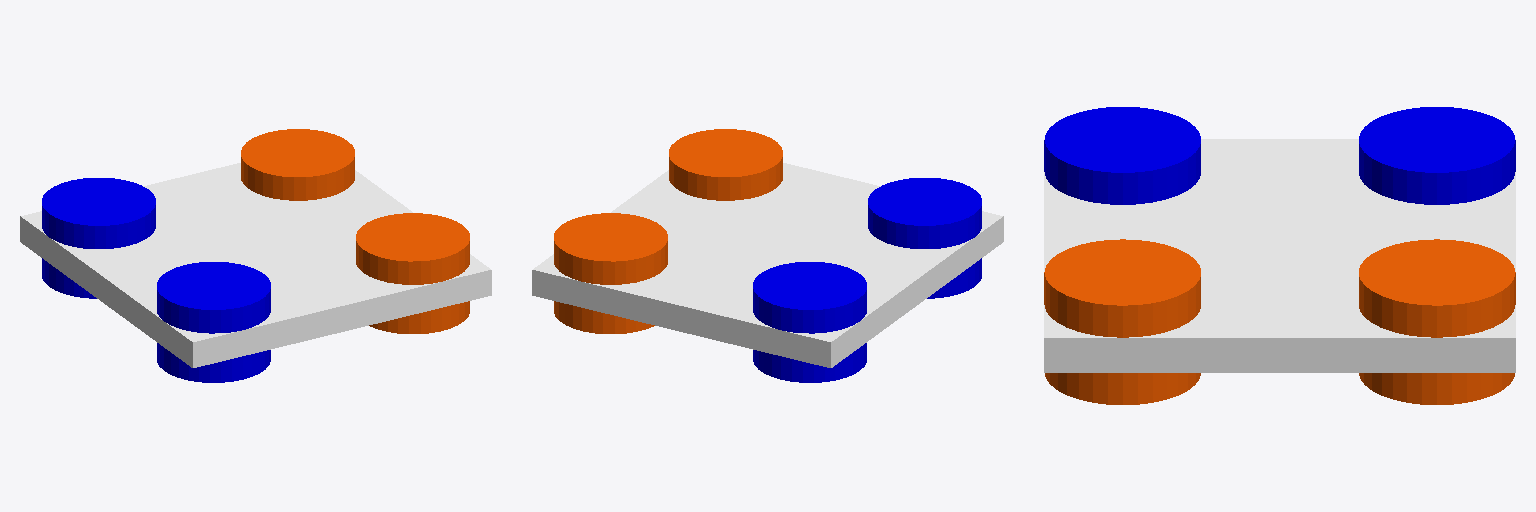
robot.urdf — quadrotor:
<?xml version="1.0"?>
<robot name="quadrotor">
  <link name="base_link">
    <visual>
      <origin xyz="0 0 0.0"/>
      <geometry>
        <box size="0.3 0.3 0.025"/>
        <!-- <cylinder radius="0.2" length="0.025"/> -->
      </geometry>
      <material name="White">
        <color rgba="1 1 1 1.0"/>
      </material>
    </visual>
    <collision>
      <origin xyz="0 0 0"/>
      <geometry>
        <box size="0.3 0.3 0.25"/>
        <!-- <sphere radius="0.2"/> -->
      </geometry>
    </collision>
    <inertial>
      <mass value="1.2"/>
      <inertia ixx="0.013" ixy="0.0" ixz="0.0" iyy="0.014" iyz="0.0" izz="0.013"/>
    </inertial>
  </link>
  <link name="front_left_prop">
    <visual>
      <origin xyz="0 0 0"/>
      <geometry>
        <cylinder radius="0.05" length="0.07"/>
        <!-- <box size="0.1 0.1 0.07"/> -->
      </geometry>
      <material name="Orange">
        <color rgba="1 0.423 0.03921568627 1.0"/>
      </material>
    </visual>
    <inertial>
      <mass value="0.01"/>
      <inertia ixx="0.000001" ixy="0.0" ixz="0.0" iyy="0.000001" iyz="0.0" izz="0.000001"/>
    </inertial>
  </link>
  <link name="front_right_prop">
    <visual>
      <origin xyz="0 0 0"/>
      <geometry>
      <!-- <box size="0.1 0.1 0.07"/> -->
        <cylinder radius="0.05" length="0.07"/>
      </geometry>
      <material name="Orange">
        <color rgba="1.0 0.423 0.03921568627 1.0"/>
      </material>
    </visual>
    <inertial>
      <mass value="0.01"/>
      <inertia ixx="0.000001" ixy="0.0" ixz="0.0" iyy="0.000001" iyz="0.0" izz="0.000001"/>
    </inertial>
  </link>
  <link name="back_left_prop">
    <visual>
      <origin xyz="0 0 0"/>
      <geometry>
      <!-- <box size="0.1 0.1 0.07"/> -->
        <cylinder radius="0.05" length="0.07"/>
      </geometry>
      <material name="Blue">
        <color rgba="0 0 1 1.0"/>
      </material>
    </visual>
    <inertial>
      <mass value="0.01"/>
      <inertia ixx="0.000001" ixy="0.0" ixz="0.0" iyy="0.000001" iyz="0.0" izz="0.000001"/>
    </inertial>
  </link>
  <link name="back_right_prop">
    <visual>
      <origin xyz="0 0 0"/>
      <geometry>
      <!-- <box size="0.1 0.1 0.07"/> -->
        <cylinder radius="0.05" length="0.07"/>
      </geometry>
      <material name="Blue">
        <color rgba="0 0 1 1.0"/>
      </material>
    </visual>
    <inertial>
      <mass value="0.01"/>
      <inertia ixx="0.000001" ixy="0.0" ixz="0.0" iyy="0.000001" iyz="0.0" izz="0.000001"/>
    </inertial>
  </link>
  <joint name="base_link_to_front_left_prop" type="fixed" dont_collapse="true">    
    <parent link="base_link"/>    
    <child link="front_left_prop"/>    
    <origin xyz="0.100 0.100 0"/>  
  </joint>
  <joint name="base_link_to_front_right_prop" type="fixed" dont_collapse="true">    
    <parent link="base_link"/>    
    <child link="front_right_prop"/>    
    <origin xyz="0.100 -0.100 0"/>
  </joint>
  <joint name="base_link_to_back_right_prop" type="fixed" dont_collapse="true">    
    <parent link="base_link"/>    
    <child link="back_right_prop"/>    
    <origin xyz="-0.100 -0.100 0"/> 
  </joint>
  <joint name="base_link_to_back_left_prop" type="fixed" dont_collapse="true">    
    <parent link="base_link"/>    
    <child link="back_left_prop"/>    
    <origin xyz="-0.100 0.100 0"/> 
  </joint>
</robot>

--- Facts derived from the render (not from the file) ---
Views: 3 orthographic renders of the robot side by side, from view 1: azimuth 30°, elevation 25°; view 2: azimuth 150°, elevation 25°; view 3: azimuth 270°, elevation 25°.
Model quadrotor with 5 links and 4 joints (4 fixed), rooted at base_link, posed all joints at 0.
Links seen in each view (by area): view 1: base_link, back_right_prop, front_right_prop, back_left_prop, front_left_prop; view 2: base_link, back_left_prop, front_left_prop, back_right_prop, front_right_prop; view 3: base_link, front_left_prop, front_right_prop, back_left_prop, back_right_prop.
Link boxes in pixels (box(x1,y1,x2,y2)): base_link: box(20, 163, 491, 367); back_right_prop: box(157, 262, 270, 382); front_right_prop: box(356, 213, 469, 333); back_left_prop: box(42, 178, 155, 298); front_left_prop: box(241, 129, 354, 200); base_link: box(532, 163, 1003, 367); back_left_prop: box(753, 262, 866, 382); front_left_prop: box(554, 213, 667, 333); back_right_prop: box(868, 178, 981, 298); front_right_prop: box(669, 129, 782, 200); base_link: box(1044, 139, 1515, 372); front_left_prop: box(1359, 239, 1515, 404); front_right_prop: box(1044, 239, 1200, 404); back_left_prop: box(1359, 107, 1515, 204); back_right_prop: box(1044, 107, 1200, 204).
Bounding box of the posed robot: 0.3 × 0.3 × 0.07 m (x, y, z).
Geometry: primitives only (box / cylinder / sphere), no mesh files.